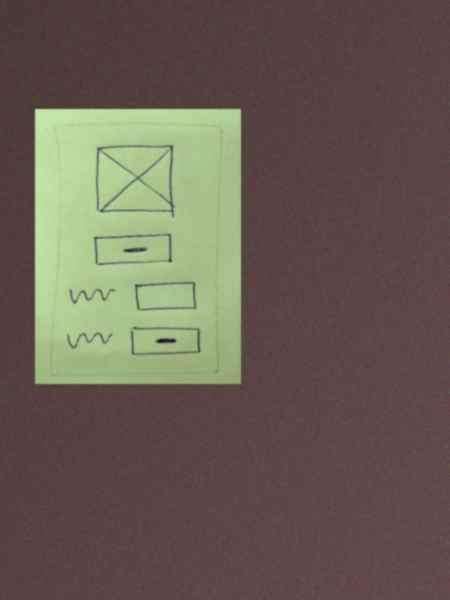button: (90, 231, 174, 271), (128, 325, 205, 359)
image: (93, 142, 177, 219)
text: (64, 327, 115, 354), (65, 284, 116, 309)
text_input: (133, 280, 203, 316)
